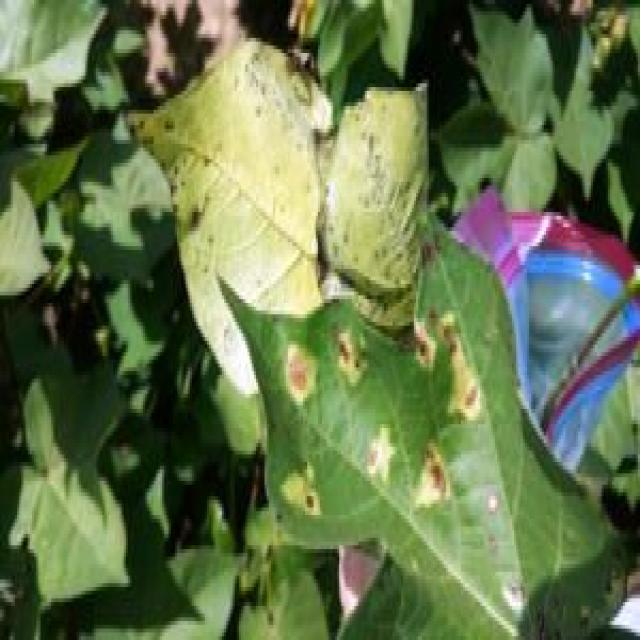Bacterial Blight: (278, 292, 498, 535)
